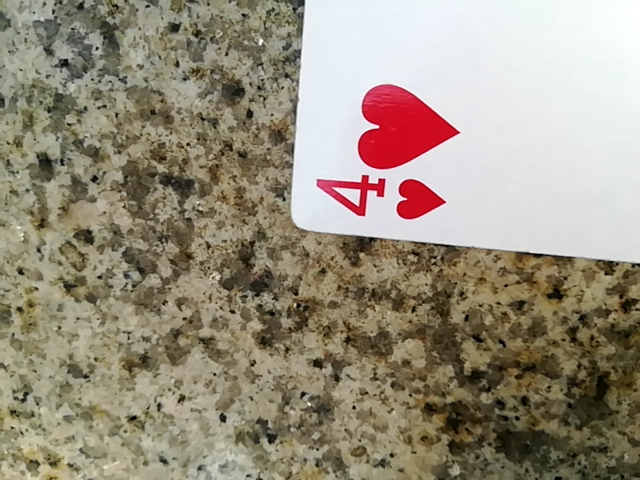hx 4: (281, 0, 640, 281)
